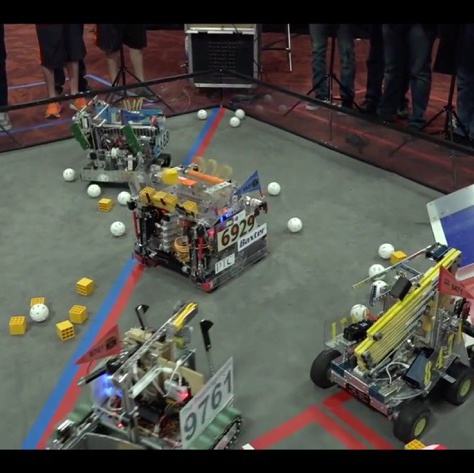robot: (308, 243, 474, 439), (42, 300, 248, 452), (123, 151, 272, 294), (73, 90, 172, 189)
